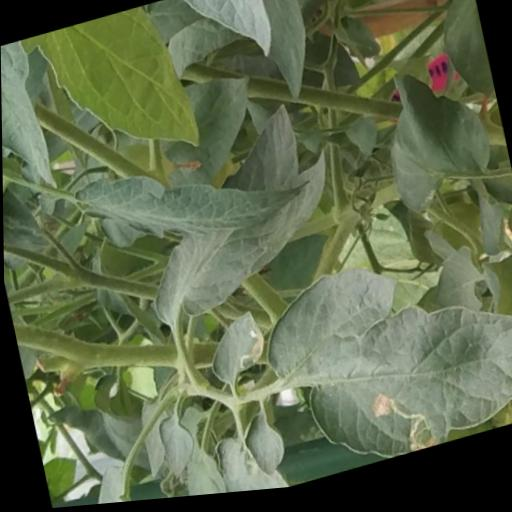Healthy: (117, 101, 327, 334), (70, 126, 318, 277), (15, 0, 205, 192)
Leaf_Miner: (249, 225, 512, 494), (201, 311, 269, 388)
